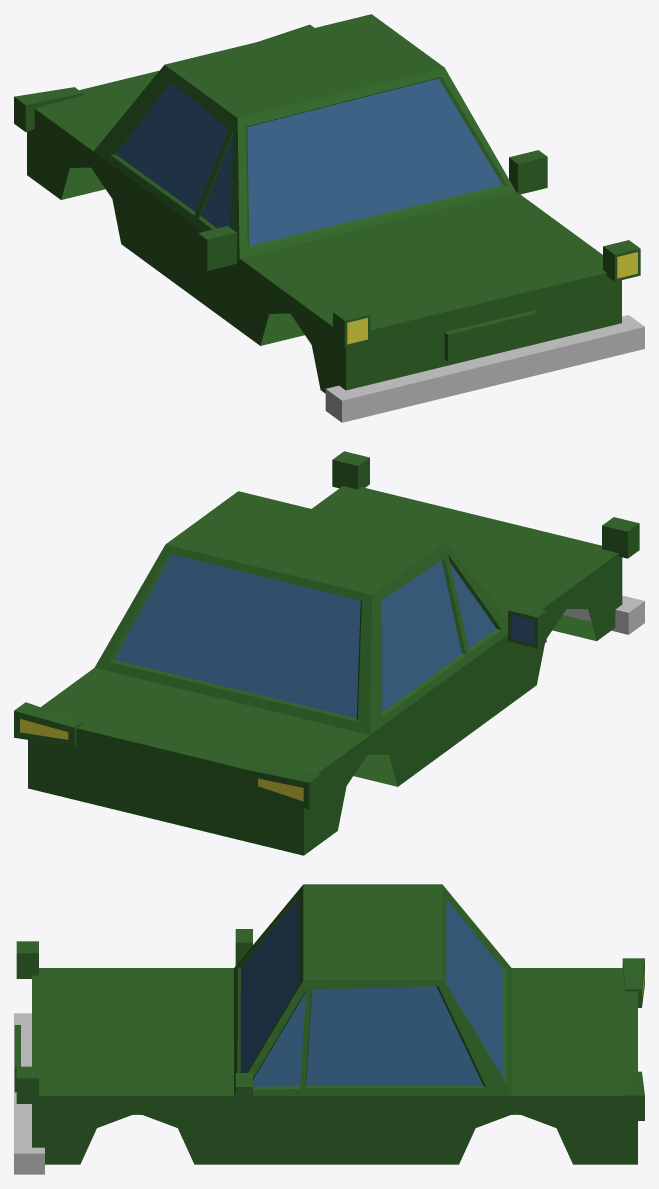
Rendered from Car_1.fbx.
3 views of the same model, one above another, from view 1: azimuth 30°, elevation 25°; view 2: azimuth 150°, elevation 25°; view 3: azimuth 270°, elevation 25° (orthographic). The views are drawn at different scales.
Visible parts, largest first — view 1: Car; view 2: Car; view 3: Car.
Boxes of the visible parts, x1=… form: Car: x1=14, y1=14, x2=644, y2=422; Car: x1=14, y1=451, x2=644, y2=855; Car: x1=14, y1=884, x2=644, y2=1174.
Size of the model in its own units: 247 by 126 by 417.
